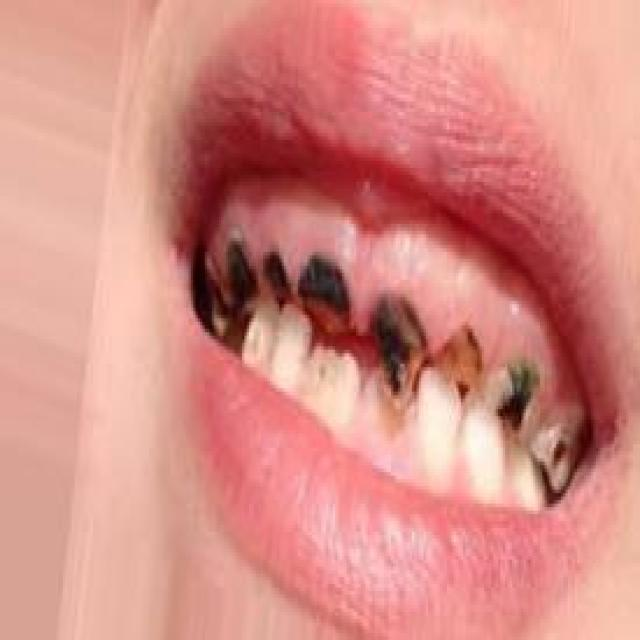caries: (372, 285, 428, 413), (298, 244, 356, 345), (482, 347, 540, 443), (432, 315, 489, 396), (217, 232, 262, 324), (261, 236, 296, 320), (539, 424, 581, 488)
